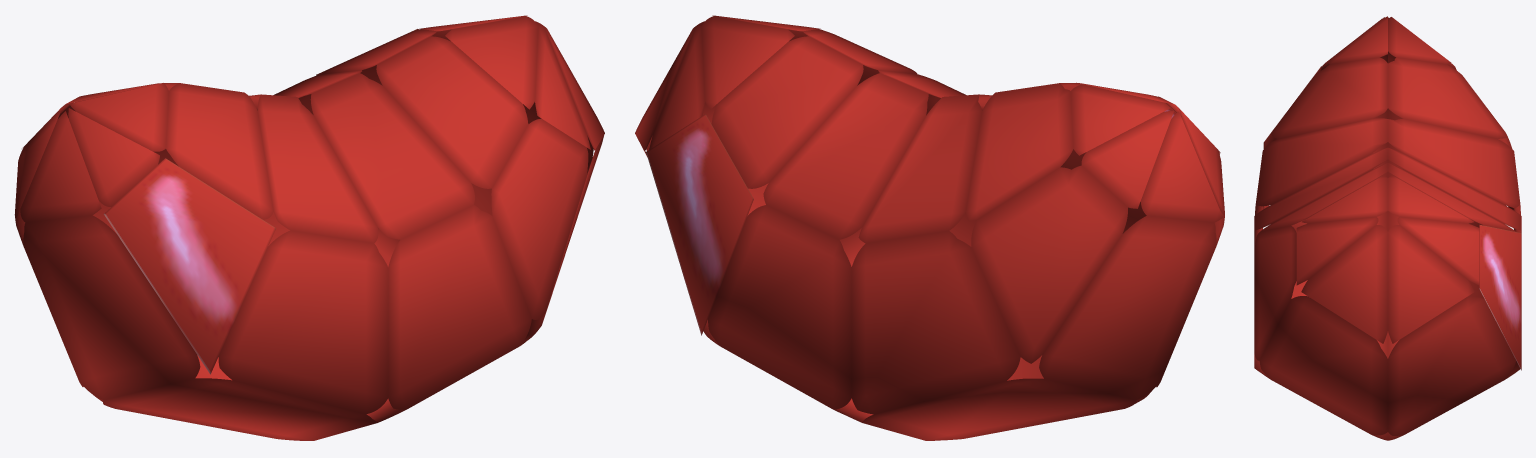
3 views of the same model, side by side, from view 1: azimuth 30°, elevation 25°; view 2: azimuth 150°, elevation 25°; view 3: azimuth 270°, elevation 25° (orthographic). The views are drawn at different scales.
Visible parts, largest first — view 1: T1L8M008_37; view 2: T1L8M008_37; view 3: T1L8M008_37.
Part boxes in pixels (left/top/right/bottom): T1L8M008_37: left=14, top=15, right=604, bottom=440; T1L8M008_37: left=635, top=15, right=1224, bottom=440; T1L8M008_37: left=1254, top=16, right=1521, bottom=440.
Bounding box in the file's own units: 0.5615 × 0.3604 × 0.2793.
1 material, 1 textured.
